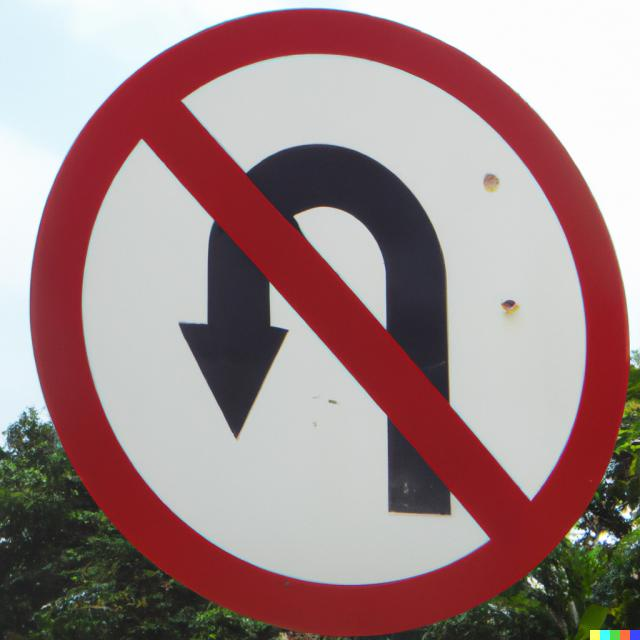no u turn: (27, 1, 633, 639)
